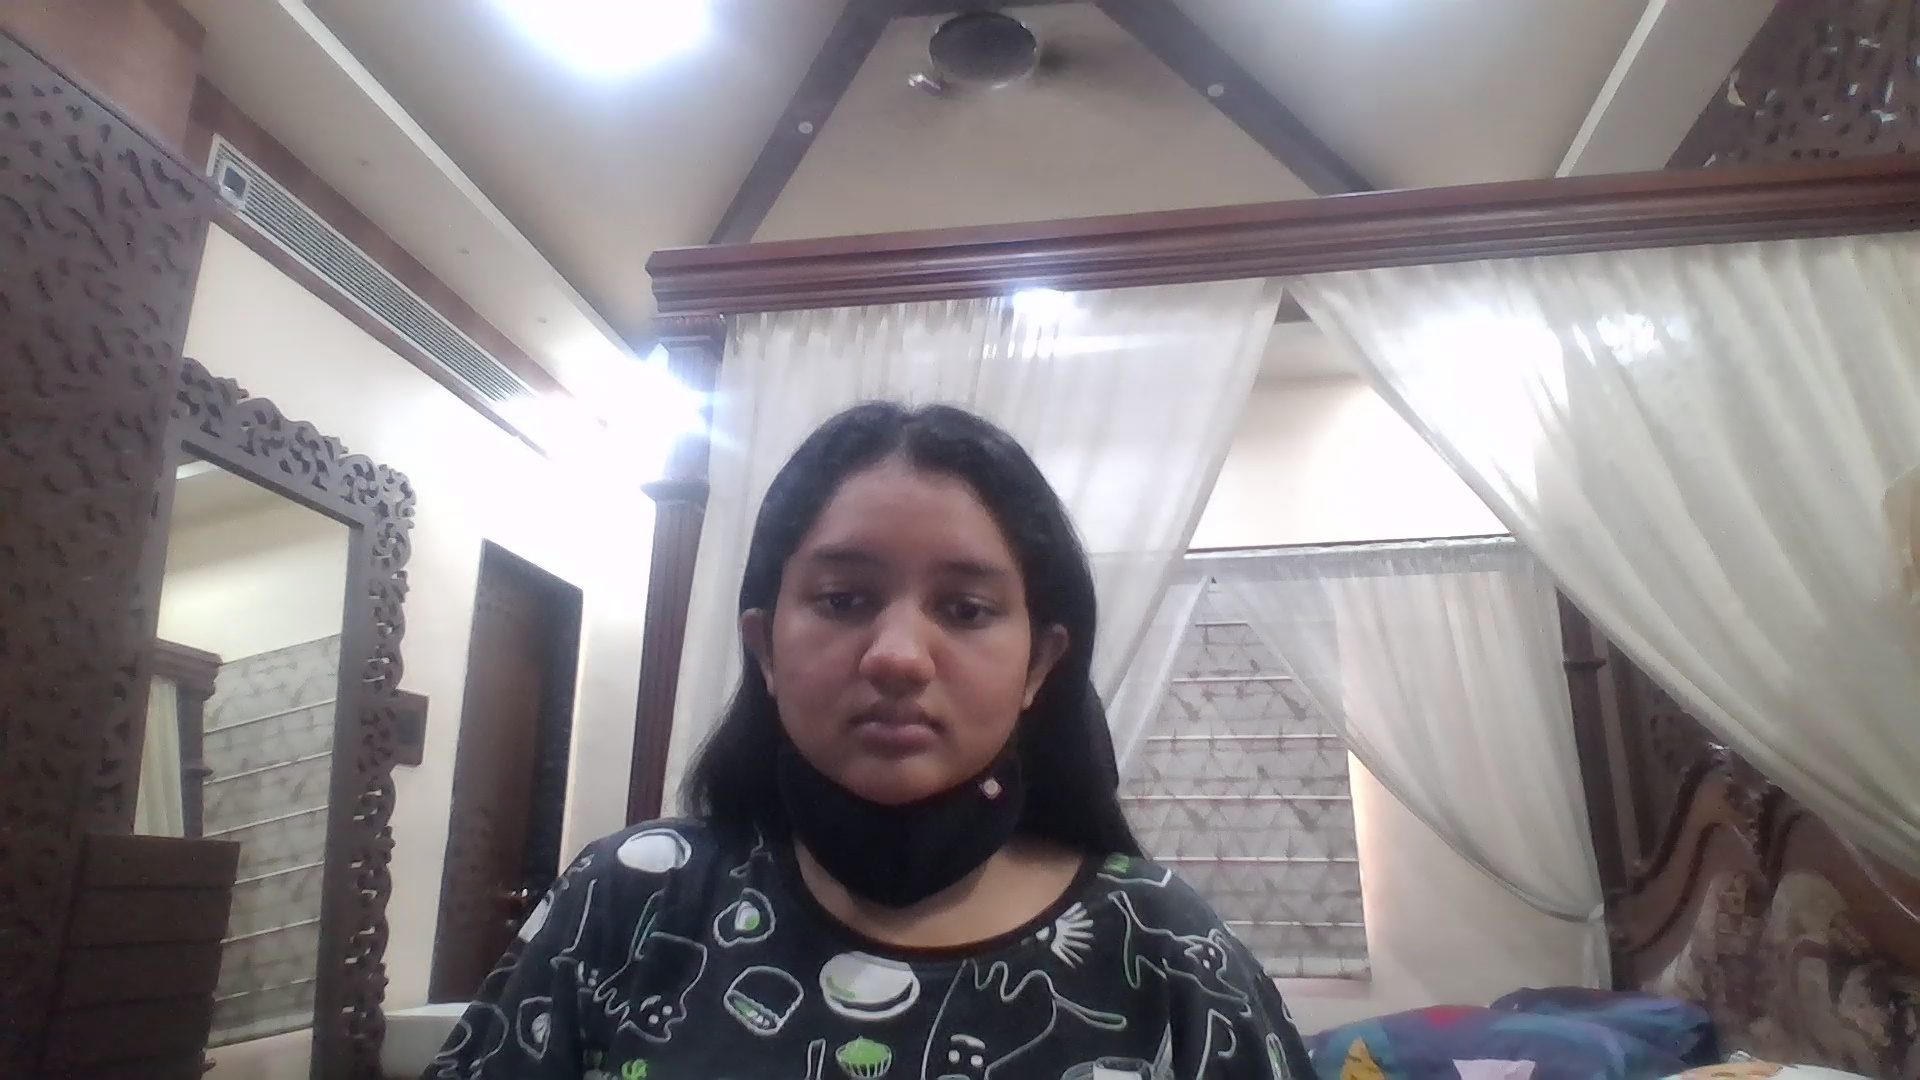No Mask: (800, 631, 1017, 813)
